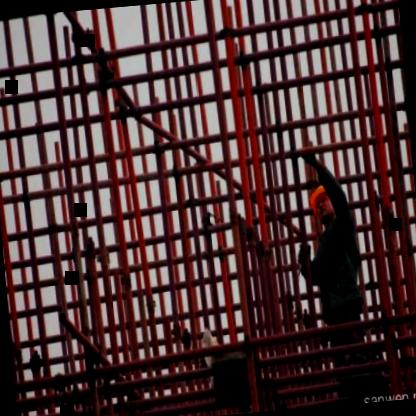helmet: (306, 178, 343, 232)
